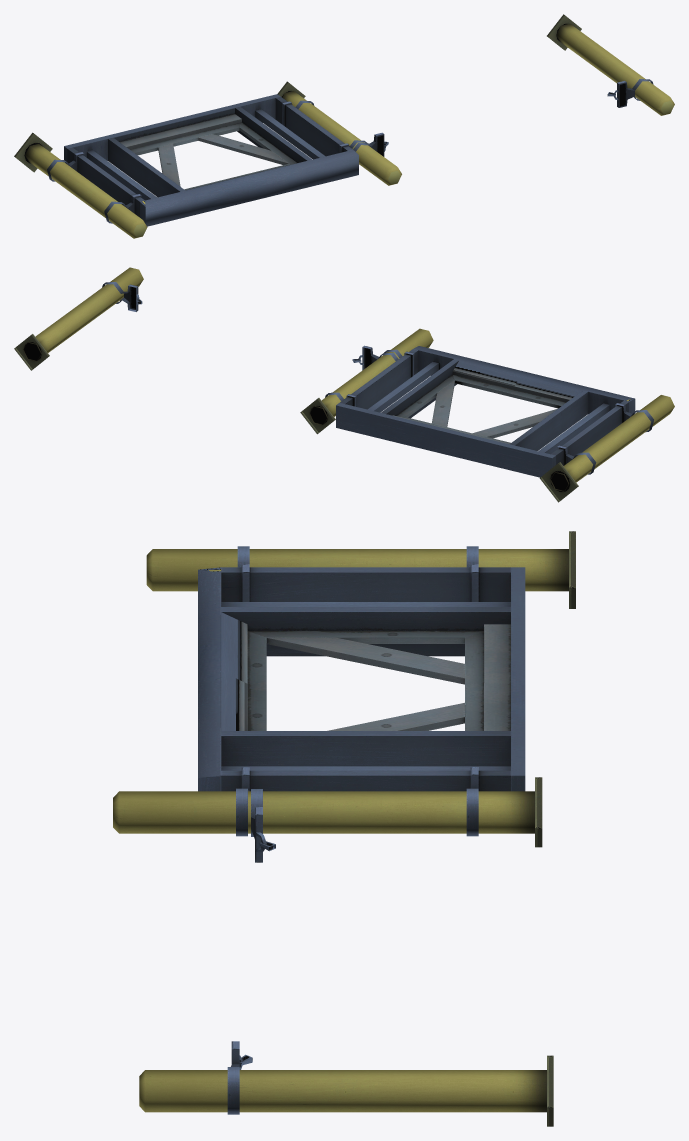
The model's file is nt_2020_street_gate_03_LOD1.obj.
3 views of the same model, one above another, from view 1: azimuth 30°, elevation 25°; view 2: azimuth 150°, elevation 25°; view 3: azimuth 270°, elevation 25° (orthographic). The views are drawn at different scales.
Visible parts, largest first — view 1: mtl_nt_2020_street_gate_01; view 2: mtl_nt_2020_street_gate_01; view 3: mtl_nt_2020_street_gate_01.
Part boxes in pixels (x1=…): mtl_nt_2020_street_gate_01: x1=14, y1=14, x2=674, y2=238; mtl_nt_2020_street_gate_01: x1=14, y1=267, x2=674, y2=502; mtl_nt_2020_street_gate_01: x1=113, y1=531, x2=575, y2=1126.
Size of the model in its own units: 321 by 22.63 by 115.
